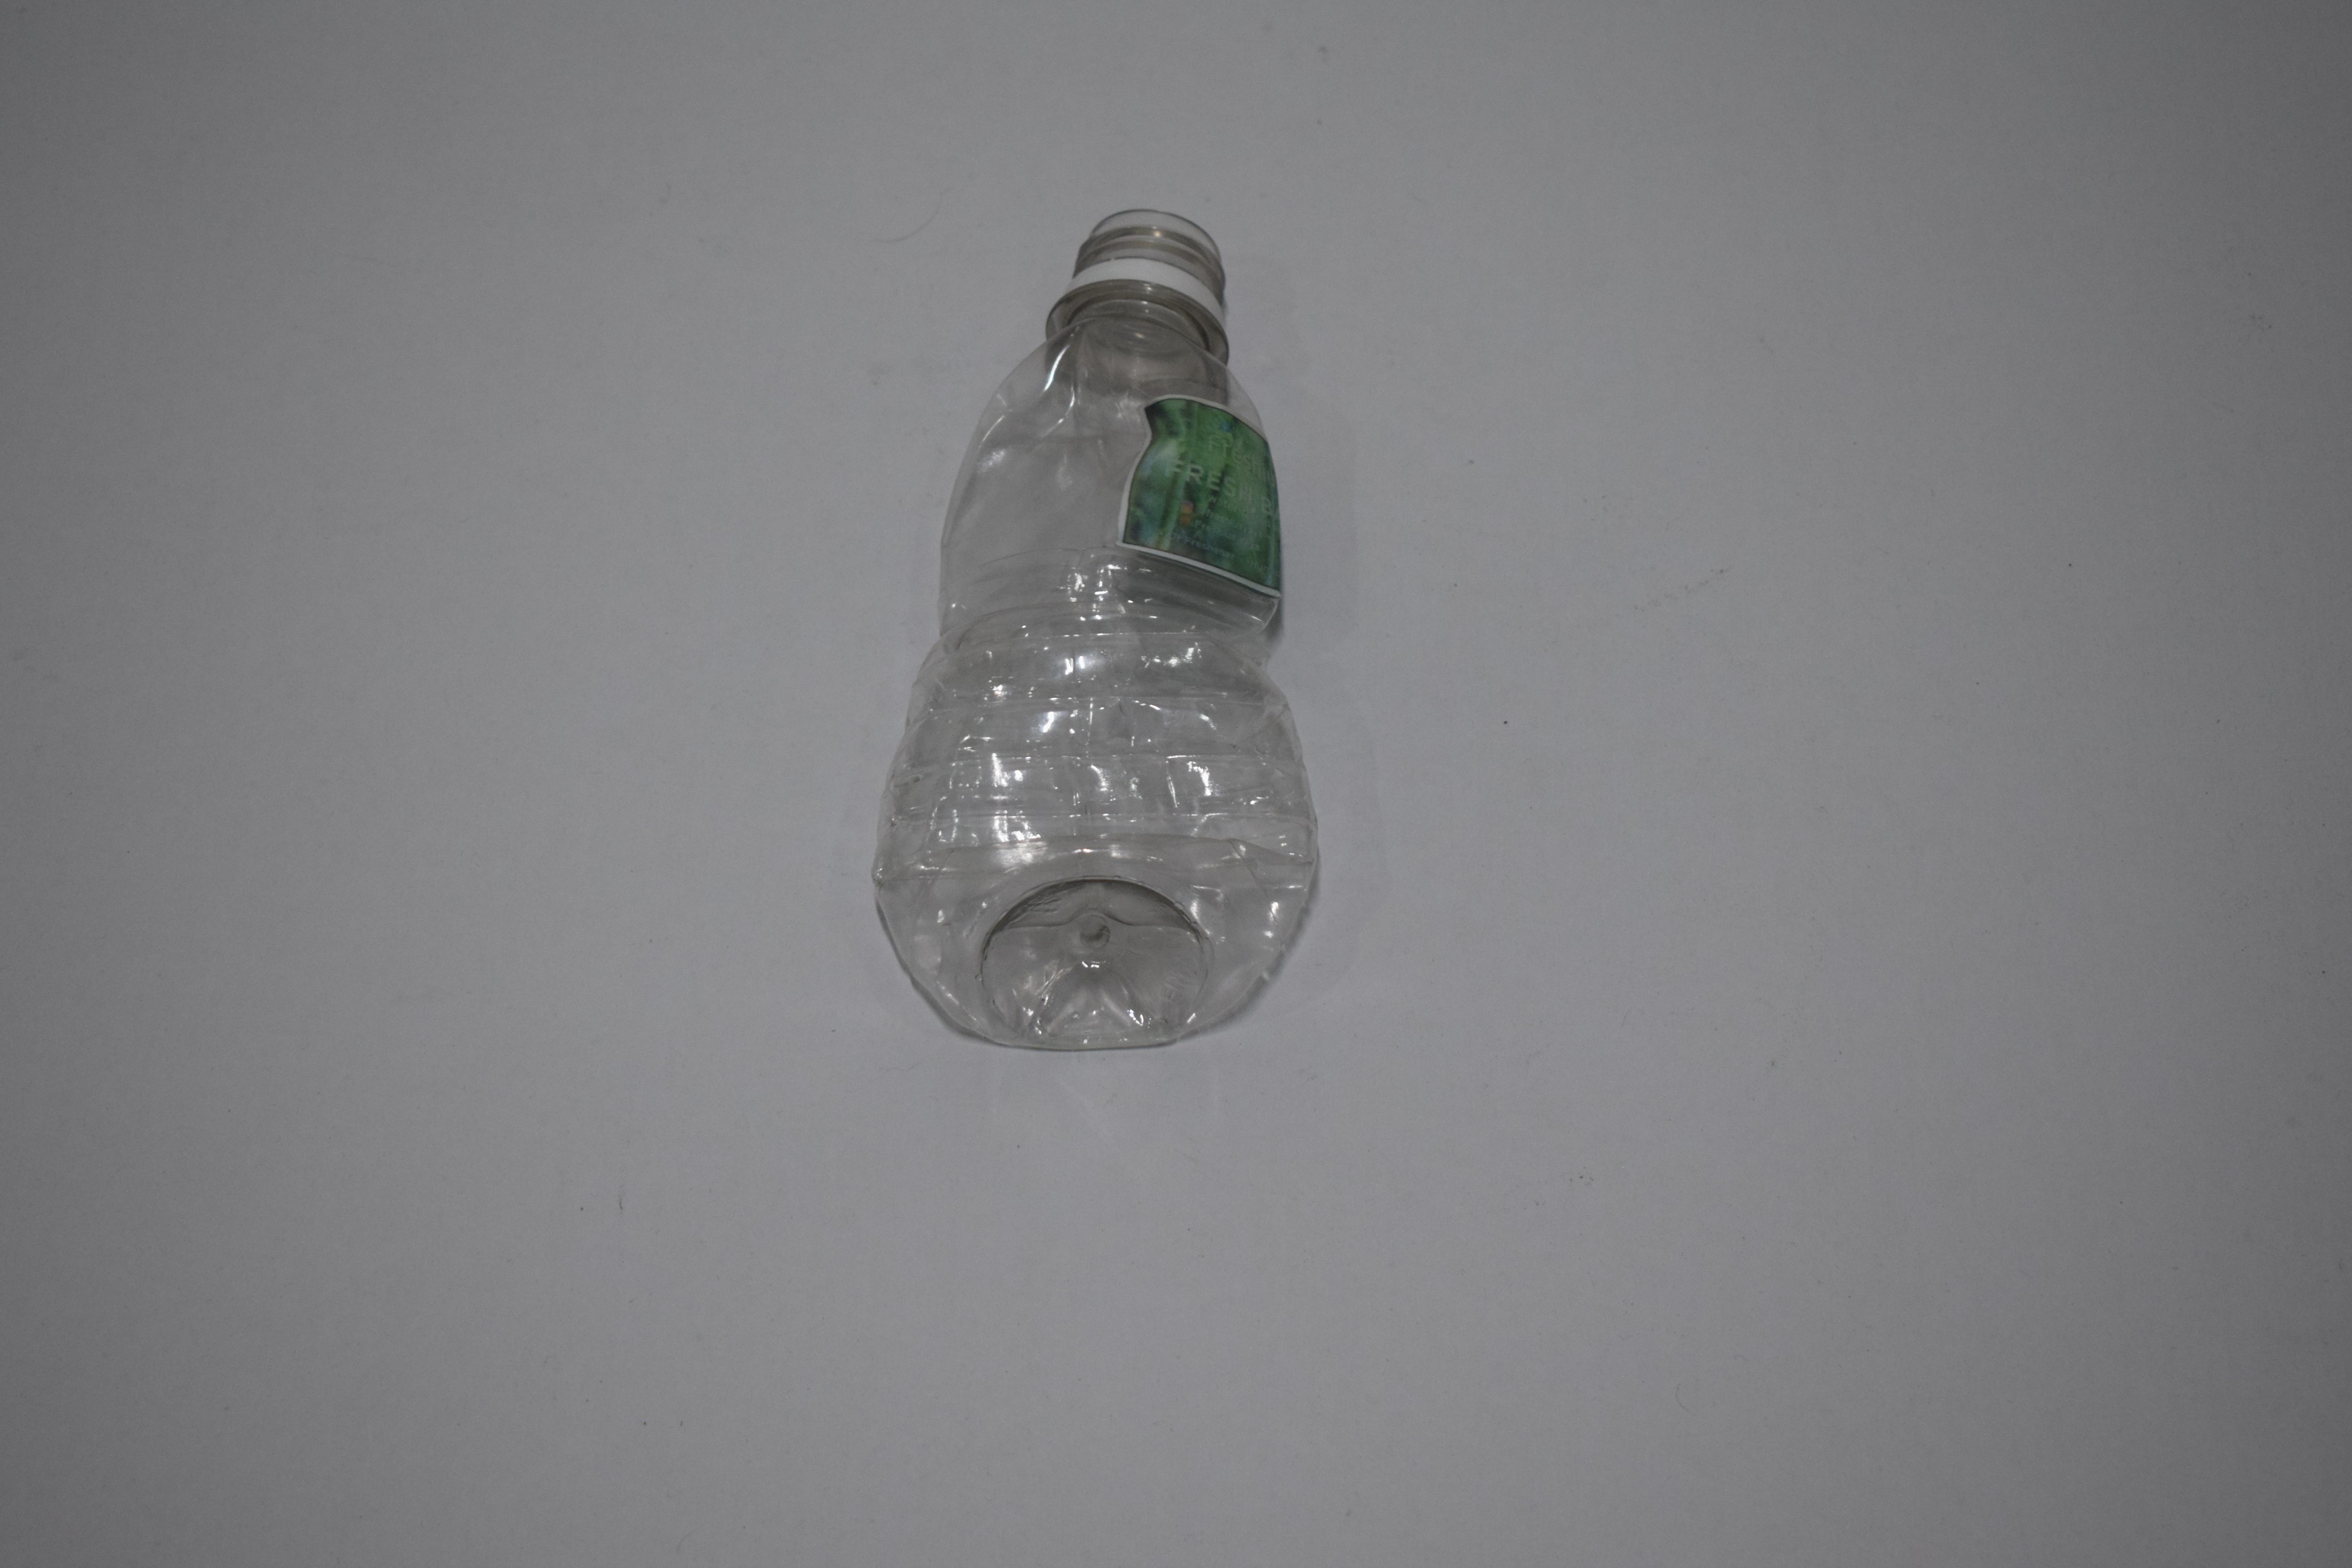bottle: (875, 595, 1321, 658)
